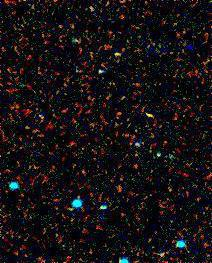star: (105, 176, 135, 206)
